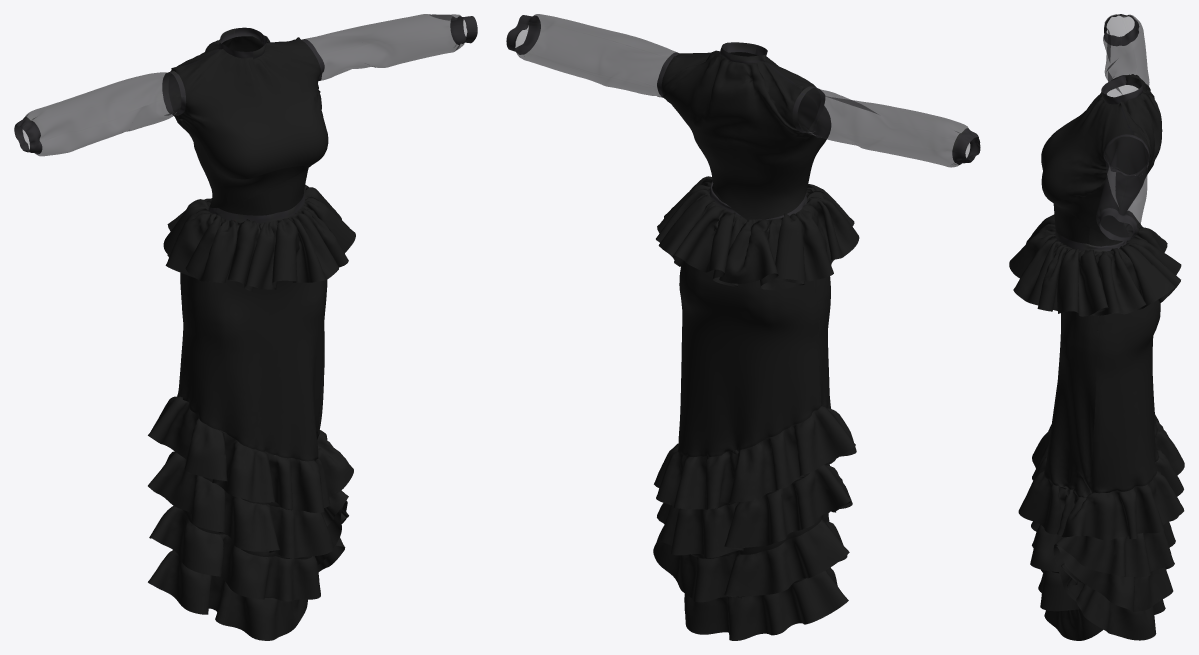
The model's file is G_cloth3.glb.
3 views of the same model, side by side, from view 1: azimuth 30°, elevation 25°; view 2: azimuth 150°, elevation 25°; view 3: azimuth 270°, elevation 25° (orthographic). The views are drawn at different scales.
Parts seen in each view (by area): view 1: Garment; view 2: Garment; view 3: Garment.
Part boxes in pixels (x1,y1,x2,y2): Garment: (14,14,477,640); Garment: (506,14,980,640); Garment: (1009,14,1184,640).
Bounding box in the file's own units: 1.15 × 1.41 × 0.4119.
1 material, 1 textured.
